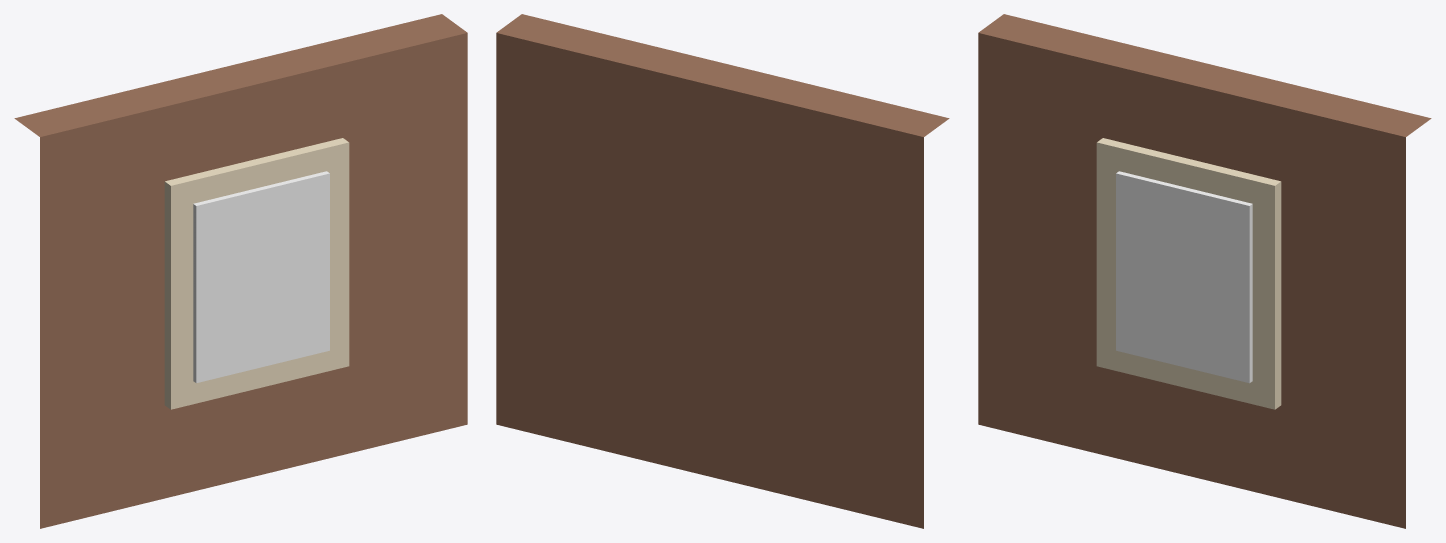
Rendered from dec_house_brick_window_lit.glb.
The picture shows the model from 3 angles, left to right: view 1: azimuth 30°, elevation 25°; view 2: azimuth 150°, elevation 25°; view 3: azimuth 330°, elevation 25°; orthographic projection.
Visible parts, largest first — view 1: dec_house_brick_window_lit_mesh; view 2: dec_house_brick_window_lit_mesh; view 3: dec_house_brick_window_lit_mesh.
Part boxes in pixels (x1,y1,x2,y2): dec_house_brick_window_lit_mesh: (14, 14, 467, 528); dec_house_brick_window_lit_mesh: (496, 14, 949, 528); dec_house_brick_window_lit_mesh: (978, 14, 1431, 528).
Size of the model in its own units: 0.48 by 0.42 by 0.068.
2 materials, 1 textured.
